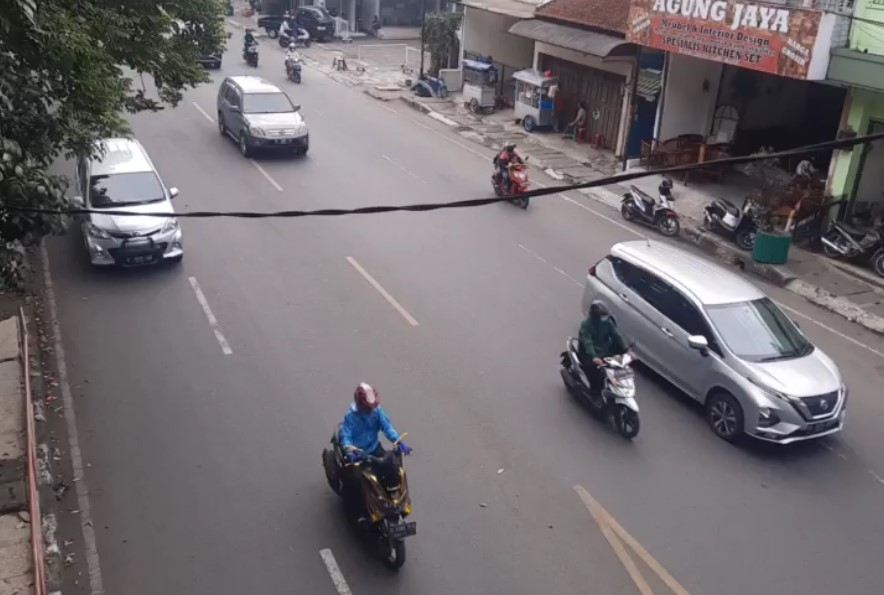mobil: (592, 233, 856, 436), (71, 137, 192, 282), (220, 78, 304, 156)
motor: (313, 379, 425, 549), (554, 316, 653, 442), (491, 143, 531, 206)
